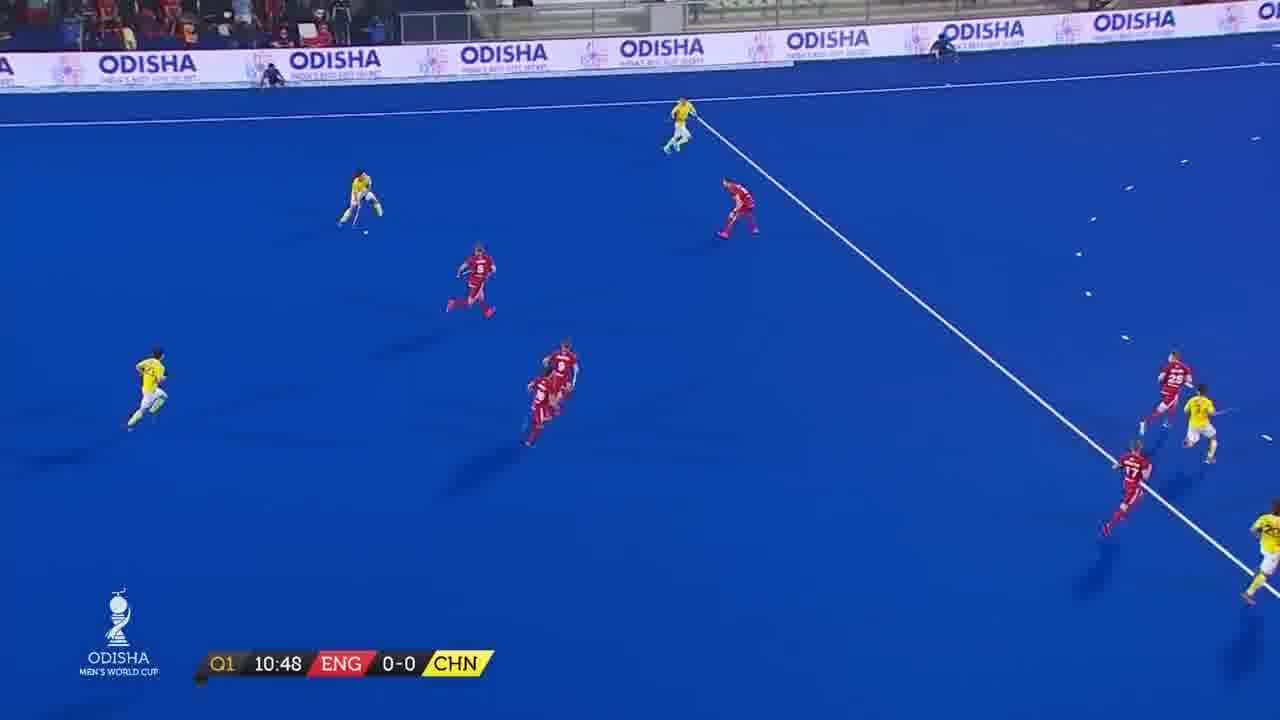ball: (362, 228, 370, 236)
